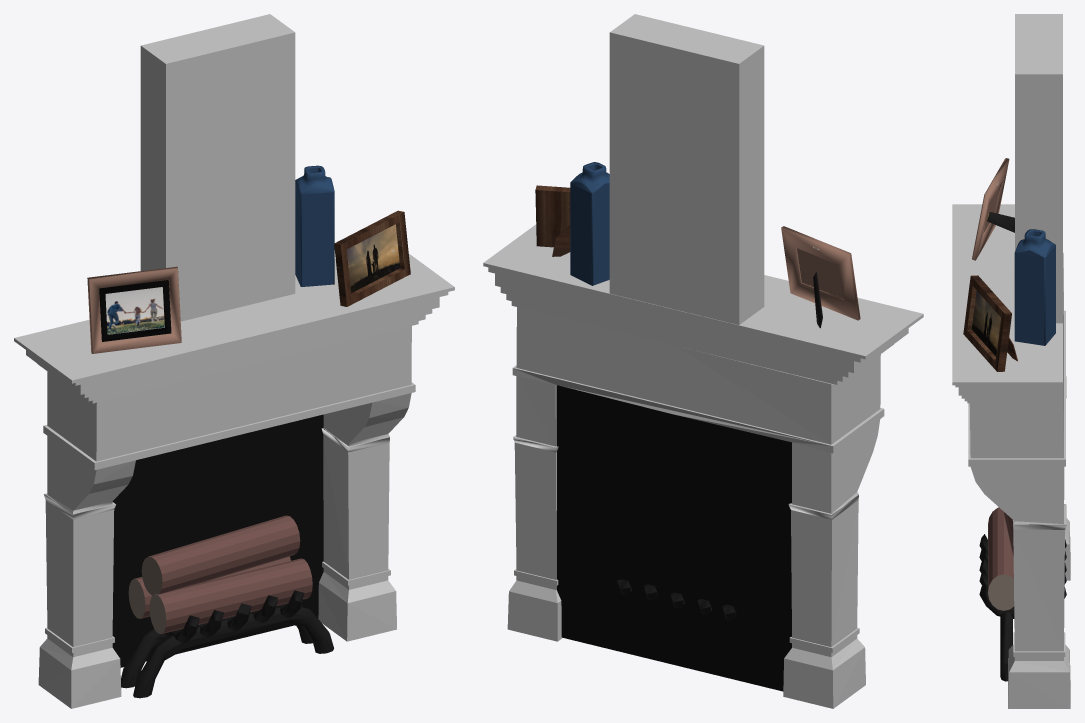
Rendered from caminetto.glb.
3 renders of one model, left to right at view 1: azimuth 30°, elevation 25°; view 2: azimuth 150°, elevation 25°; view 3: azimuth 270°, elevation 25°, orthographic. The views are drawn at different scales.
Visible parts, largest first — view 1: Fireplace_Cube, Plane, Wood.001_Cylinder.012, Back Insert001, Cylinder.010_Cylinder.011, Untitled, 18391_Oriental_Porcelain_Flower_Vase_v1; view 2: Fireplace_Cube, Plane, Back Insert001, 18391_Oriental_Porcelain_Flower_Vase_v1, Untitled, Cylinder.010_Cylinder.011; view 3: Fireplace_Cube, 18391_Oriental_Porcelain_Flower_Vase_v1, Untitled, Wood.001_Cylinder.012, Back Insert001, Cylinder.010_Cylinder.011.
Part boxes in pixels (x1,y1,x2,y2): Fireplace_Cube: [14, 14, 454, 708]; Plane: [112, 414, 323, 667]; Wood.001_Cylinder.012: [128, 515, 312, 634]; Back Insert001: [87, 266, 181, 353]; Cylinder.010_Cylinder.011: [121, 590, 333, 698]; Untitled: [334, 210, 410, 306]; 18391_Oriental_Porcelain_Flower_Vase_v1: [295, 165, 334, 286]; Fireplace_Cube: [483, 14, 923, 708]; Plane: [556, 385, 791, 691]; Back Insert001: [781, 226, 860, 328]; 18391_Oriental_Porcelain_Flower_Vase_v1: [570, 162, 609, 285]; Untitled: [535, 185, 570, 256]; Cylinder.010_Cylinder.011: [617, 579, 736, 620]; Fireplace_Cube: [952, 14, 1070, 708]; 18391_Oriental_Porcelain_Flower_Vase_v1: [1014, 229, 1055, 345]; Untitled: [963, 275, 1017, 371]; Wood.001_Cylinder.012: [988, 507, 1014, 610]; Back Insert001: [972, 158, 1014, 260]; Cylinder.010_Cylinder.011: [979, 534, 1066, 681].
Bounding box in the file's own units: 1.99 × 3.08 × 0.558.
14 materials, 3 textured.
